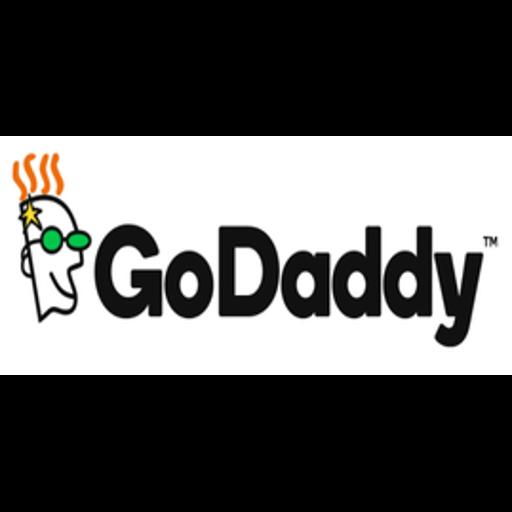GoDaddy: (0, 136, 512, 375)
